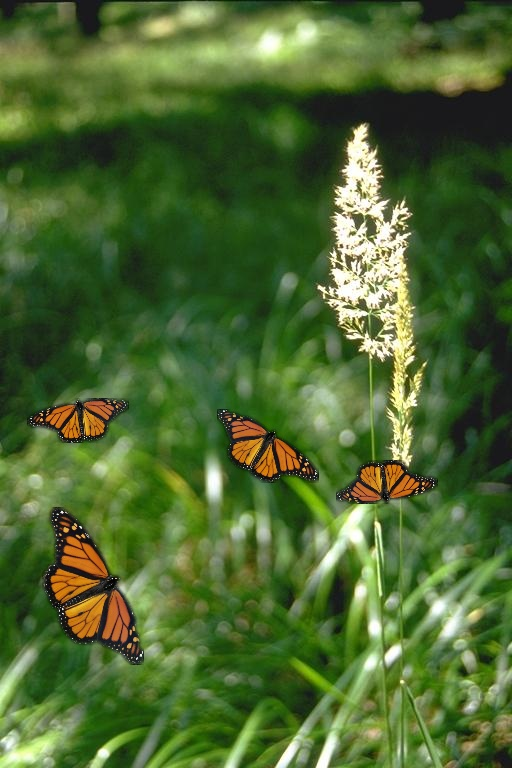danaus_plexippus: (42, 507, 144, 665), (217, 409, 319, 483), (27, 398, 129, 443), (336, 460, 438, 504)
